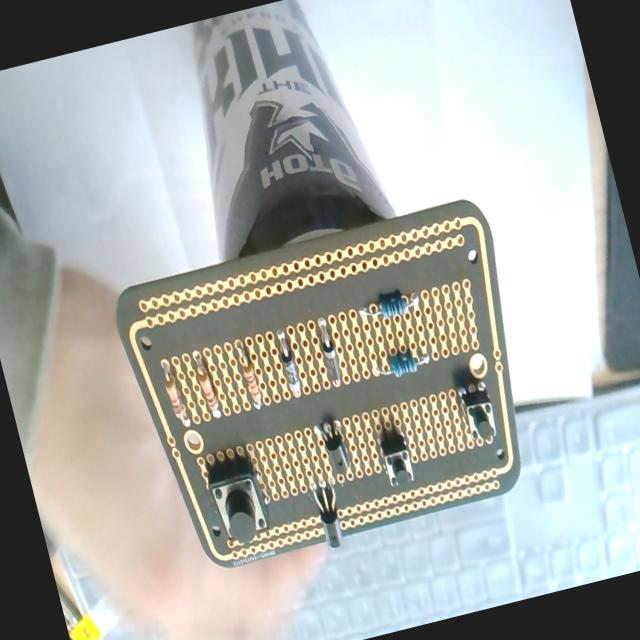diode: (264, 321, 310, 410), (311, 314, 352, 399)
resistor: (177, 322, 228, 432), (351, 278, 429, 336), (150, 350, 200, 440), (224, 326, 269, 412), (368, 340, 440, 390)
switch: (202, 451, 272, 550), (369, 424, 427, 502), (452, 386, 505, 452)
transistor: (307, 479, 354, 552), (316, 412, 358, 483)
